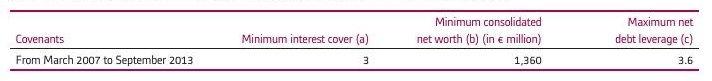table: (0, 0, 712, 81)
